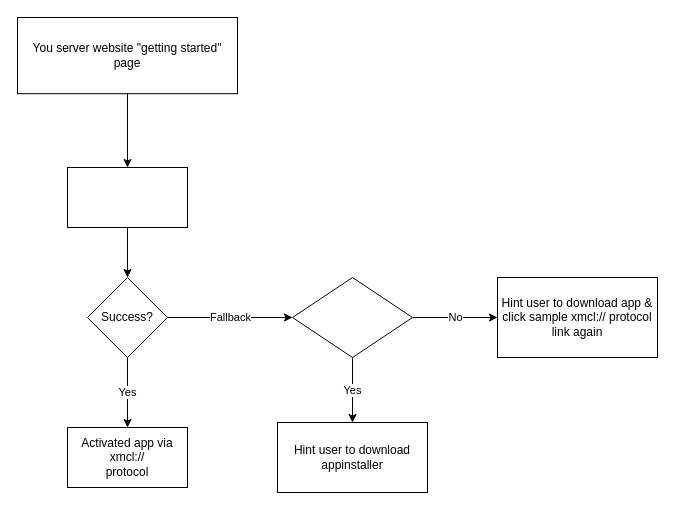
The diagram is 675 pixels wide and 510 high, and some of its shapes have lost their labels. Each missing label, with the centre of its shape:
"Is WIndows 10?" belongs at [352,317].
"Try open protocol" belongs at [127,197].
